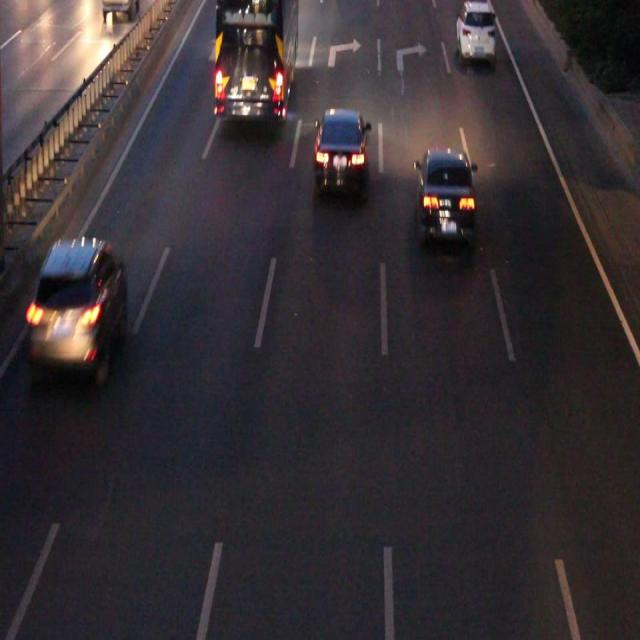car: (29, 243, 124, 372), (417, 150, 474, 249), (315, 110, 366, 189), (455, 1, 493, 58)
van: (215, 1, 298, 119)
